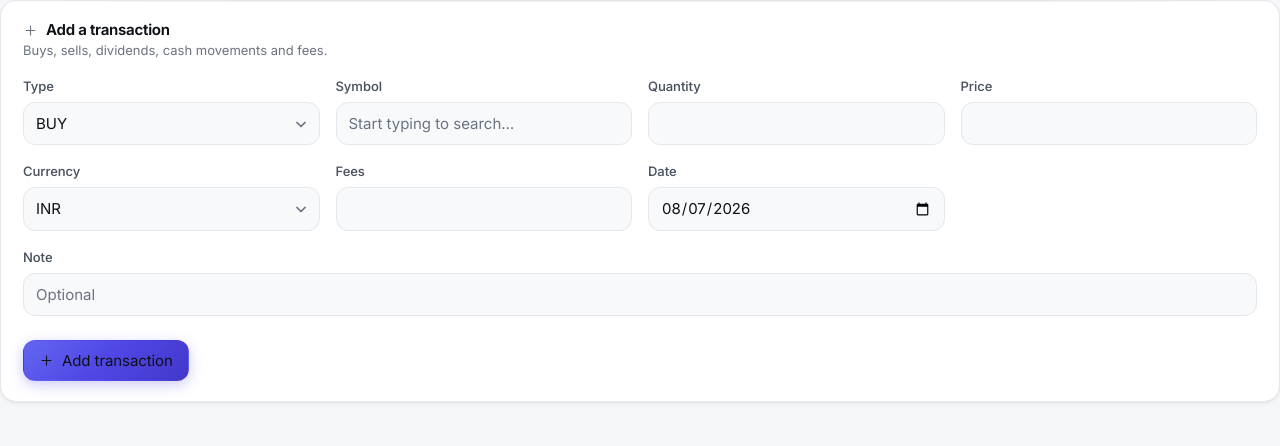
Scenario: AddTransactionForm › puts a 422 from a domain rule against the field errors[] names
Select "SELL" in the dropdown labelled "Type" at {"x": 171, "y": 124}, box [23,102,320,145]
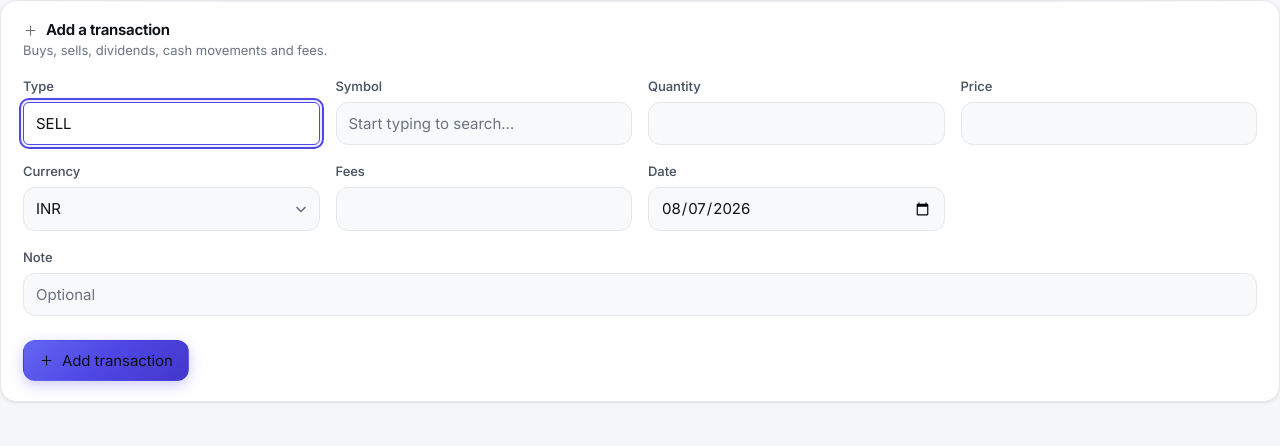
Type "AAPL" into the dropdown labelled "Symbol" at {"x": 484, "y": 124}, box [336,102,632,145]
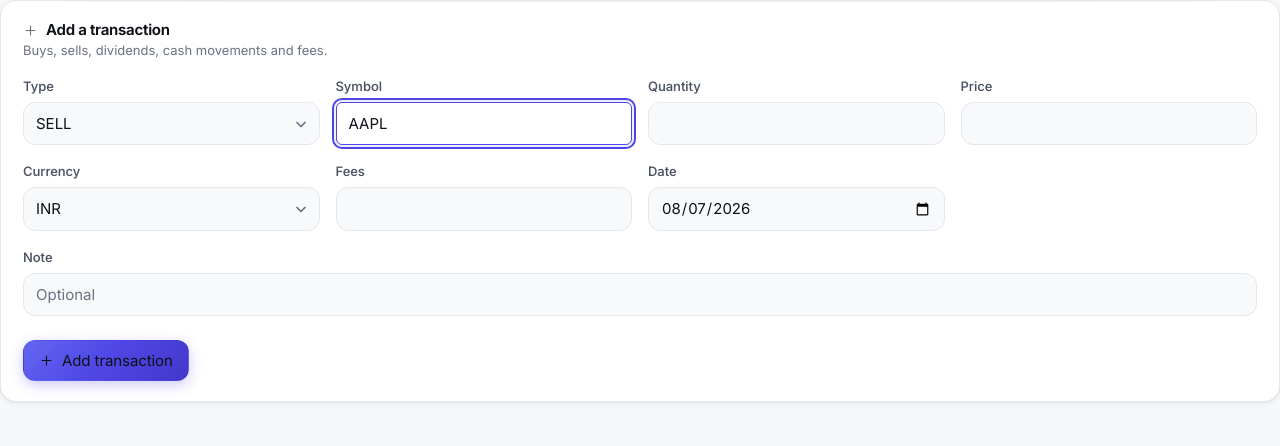
Type "50" into the field labelled "Quantity" at {"x": 796, "y": 124}, box [648,102,944,145]
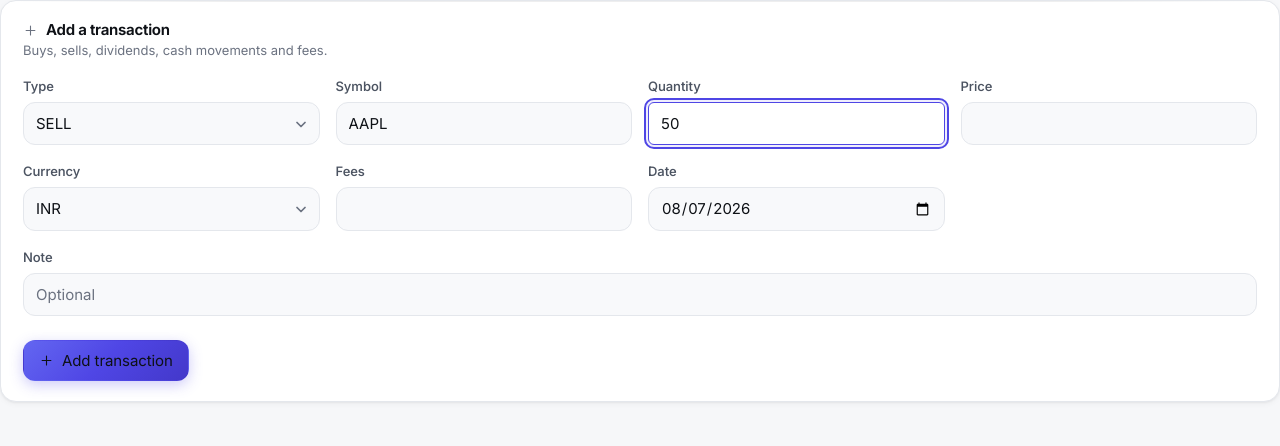
Type "228.10" into the field labelled "Price" at {"x": 1109, "y": 124}, box [960,102,1257,145]
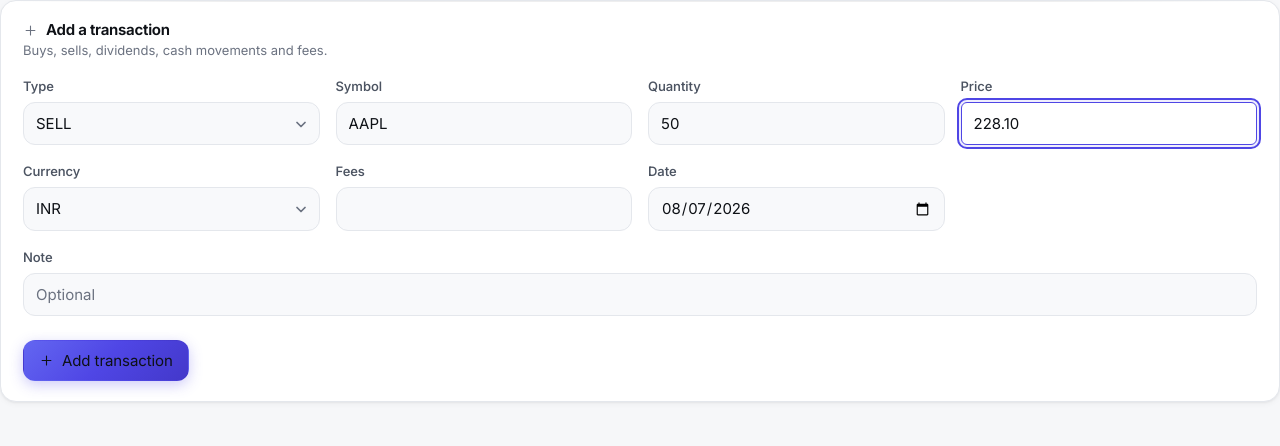
Click the button "Add transaction" at {"x": 106, "y": 361}, box [23,340,189,381]
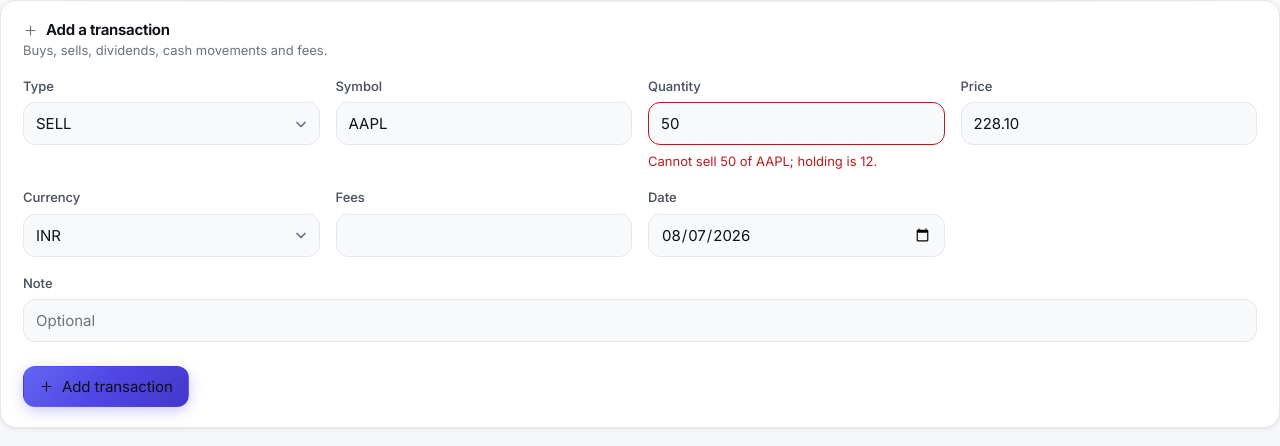
Now the message reads "Cannot sell 50 of AAPL; holding is 12.", box [648,153,877,169]
